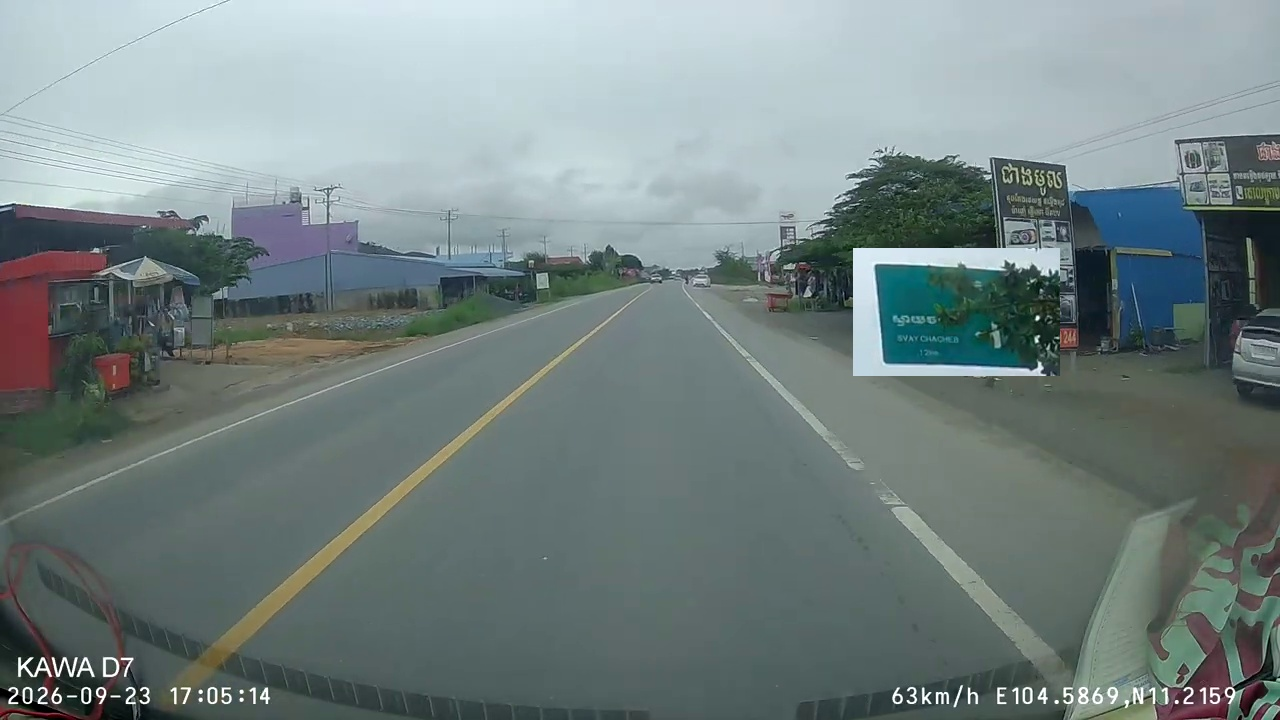direction_sign: (853, 248, 1060, 376)
